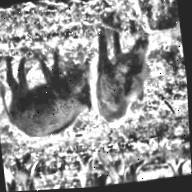boar: (0, 46, 100, 143), (86, 21, 161, 131)
